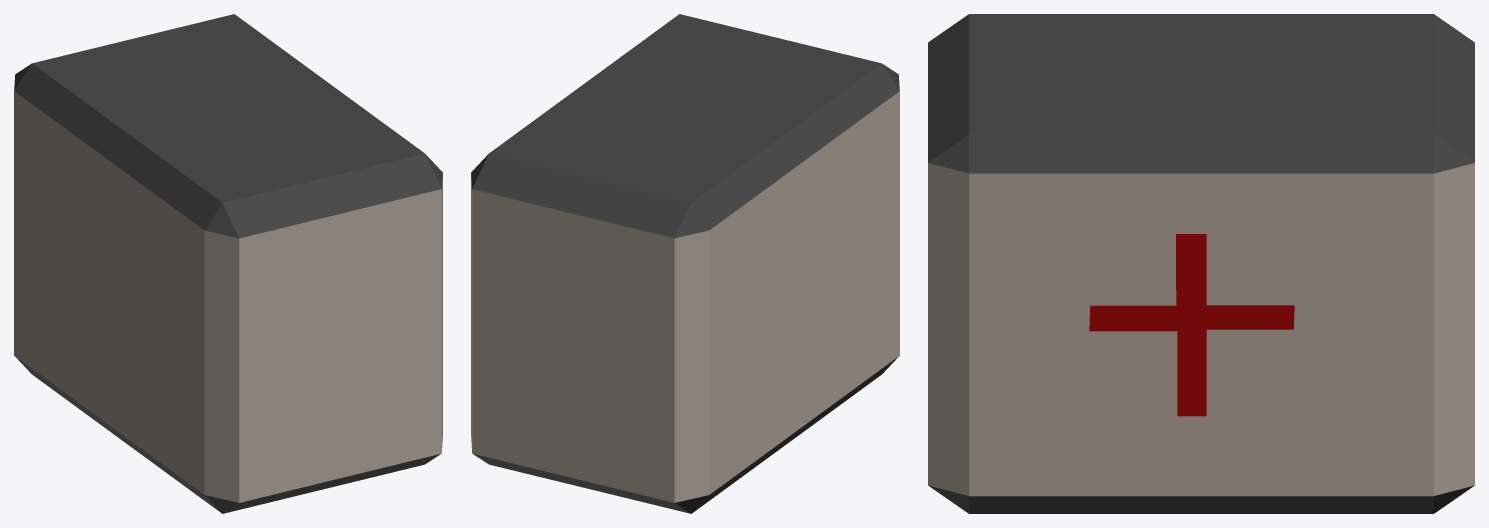
File: MedicineItem1.fbx
The picture shows the model from 3 angles, left to right: view 1: azimuth 30°, elevation 25°; view 2: azimuth 150°, elevation 25°; view 3: azimuth 270°, elevation 25°; orthographic projection. The views are drawn at different scales.
Visible parts, largest first — view 1: Cube.059; view 2: Cube.059; view 3: Cube.059.
Part boxes in pixels (x1=…): Cube.059: x1=14, y1=14, x2=442, y2=513; Cube.059: x1=471, y1=14, x2=899, y2=513; Cube.059: x1=928, y1=14, x2=1474, y2=513.
Bounding box in the file's own units: 52.32 × 65.31 × 85.28.
